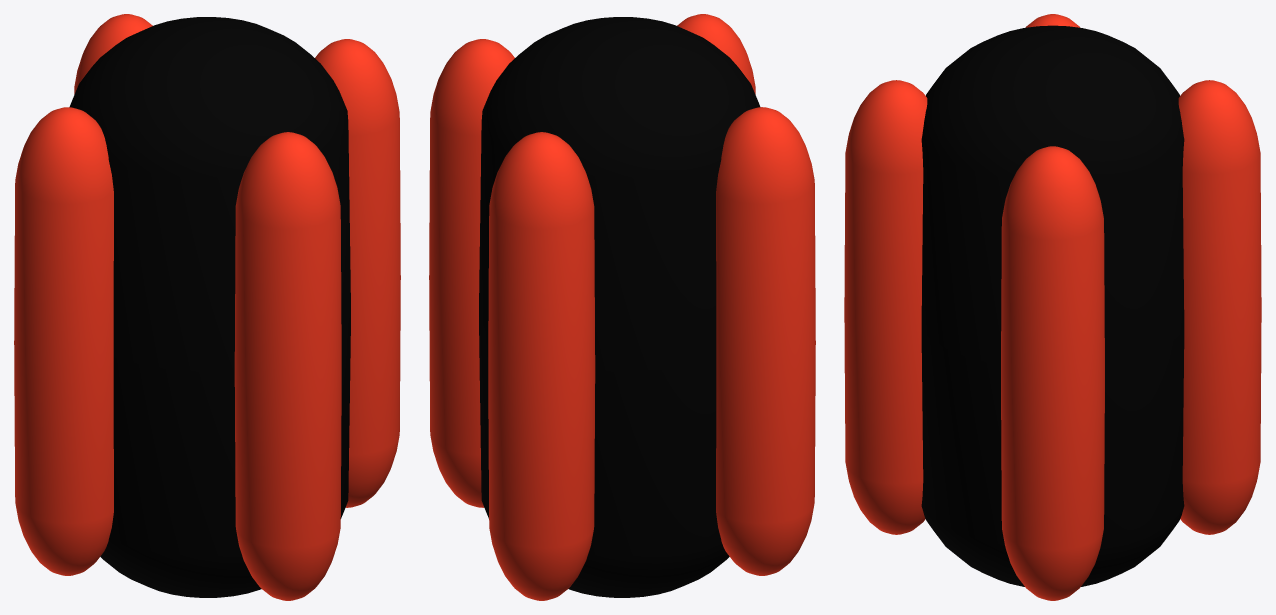
The model's file is BadBonus.fbx.
3 renders of one model, left to right at view 1: azimuth 30°, elevation 25°; view 2: azimuth 150°, elevation 25°; view 3: azimuth 270°, elevation 25°, orthographic. The views are drawn at different scales.
Parts seen in each view (by area): view 1: Sphere; view 2: Sphere; view 3: Sphere.
Part boxes in pixels (left/top/right/bottom): Sphere: left=14, top=14, right=400, bottom=600; Sphere: left=429, top=14, right=815, bottom=600; Sphere: left=844, top=14, right=1261, bottom=600.
Size of the model in its own units: 100 by 141 by 100.
